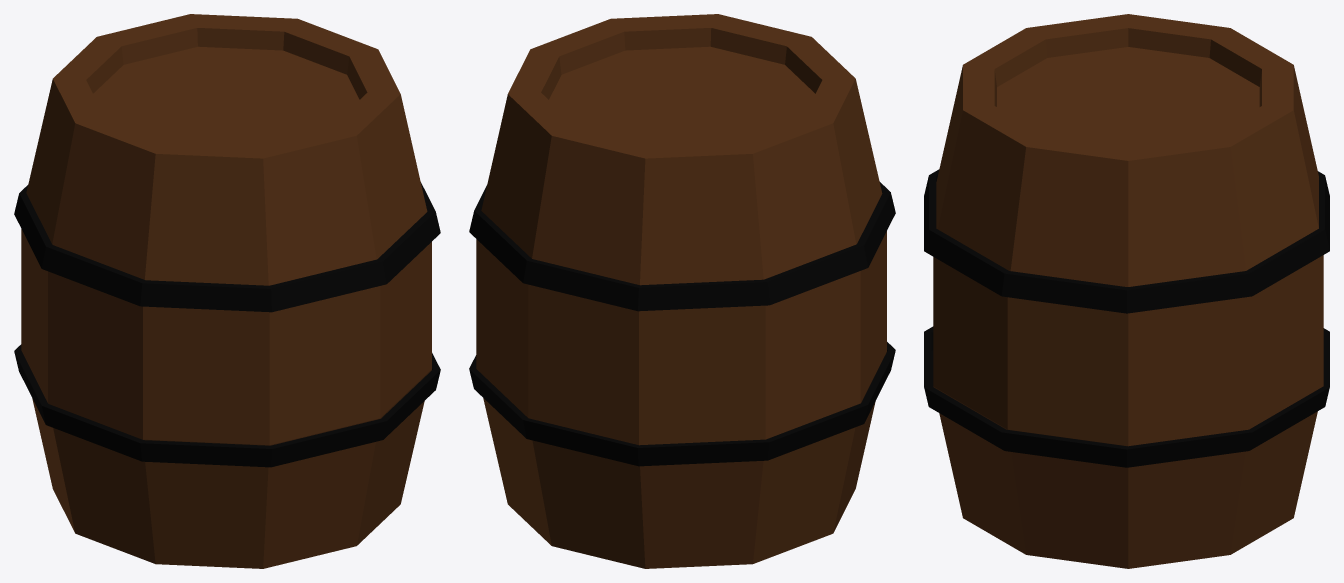
File: Barrel 1.fbx
The picture shows the model from 3 angles, left to right: view 1: azimuth 30°, elevation 25°; view 2: azimuth 150°, elevation 25°; view 3: azimuth 270°, elevation 25°; orthographic projection.
Visible parts, largest first — view 1: Barrel_1; view 2: Barrel_1; view 3: Barrel_1.
Boxes of the visible parts, x1,y1,x2,y2 form: Barrel_1: (14,14,440,568); Barrel_1: (469,14,895,568); Barrel_1: (924,14,1329,568).
Bounding box in the file's own units: 89.3 × 94.23 × 84.93.
1 material, 1 textured.
